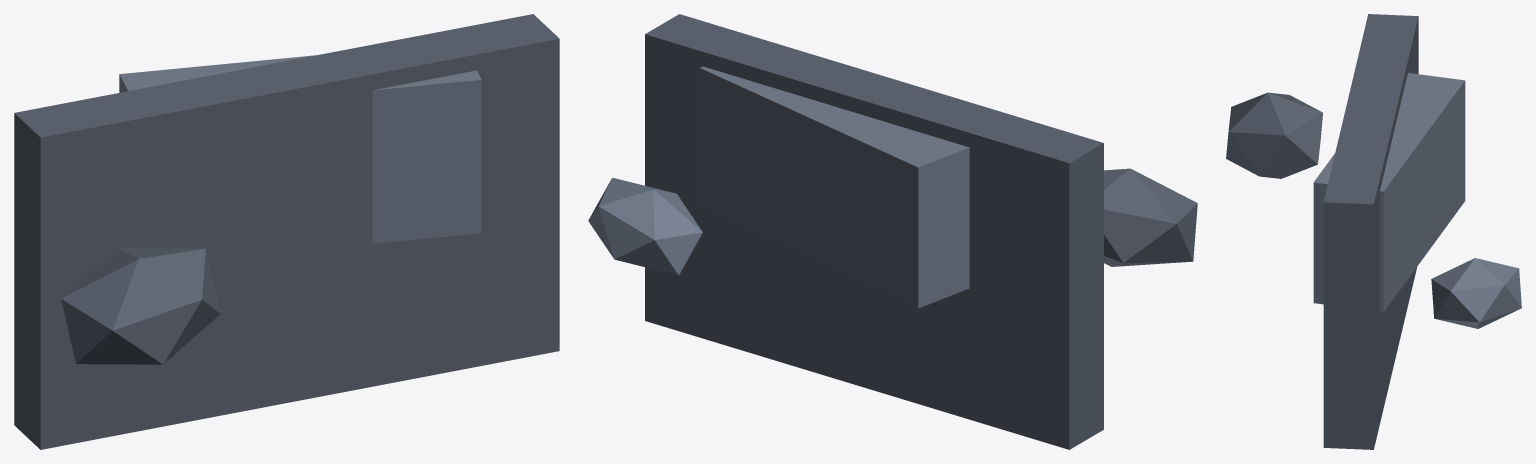
Rendered from EXTC_CollapsedPlinth_01.glb.
3 renders of one model, left to right at view 1: azimuth 30°, elevation 25°; view 2: azimuth 150°, elevation 25°; view 3: azimuth 270°, elevation 25°, orthographic. The views are drawn at different scales.
Parts seen in each view (by area): view 1: EXTC_CollapsedPlinth_01; view 2: EXTC_CollapsedPlinth_01; view 3: EXTC_CollapsedPlinth_01.
Part boxes in pixels (left/top/right/bottom): EXTC_CollapsedPlinth_01: left=14, top=14, right=559, bottom=449; EXTC_CollapsedPlinth_01: left=588, top=14, right=1197, bottom=449; EXTC_CollapsedPlinth_01: left=1226, top=14, right=1521, bottom=449.
Size of the model in its own units: 2.08 by 1.18 by 1.29.
